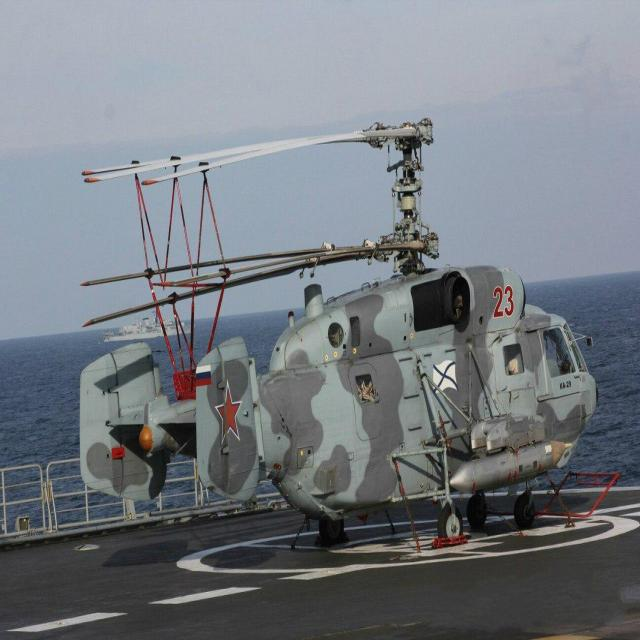MIL_HELO: (50, 114, 620, 568)
